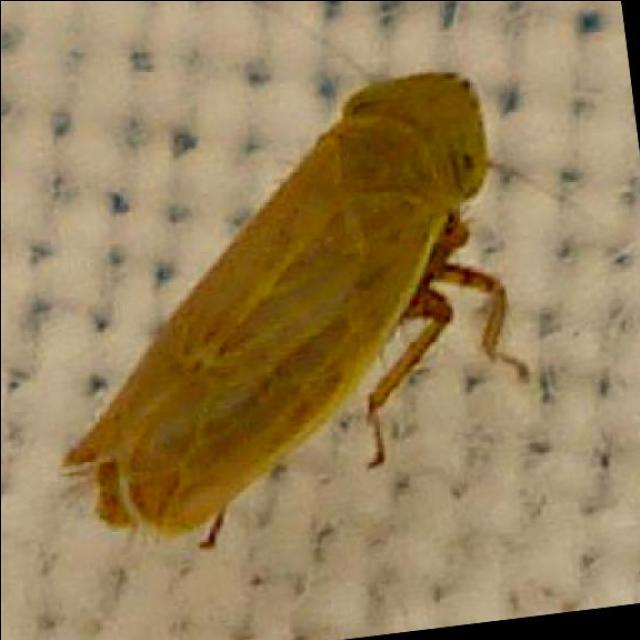green leaf hopper: (63, 71, 528, 547)
